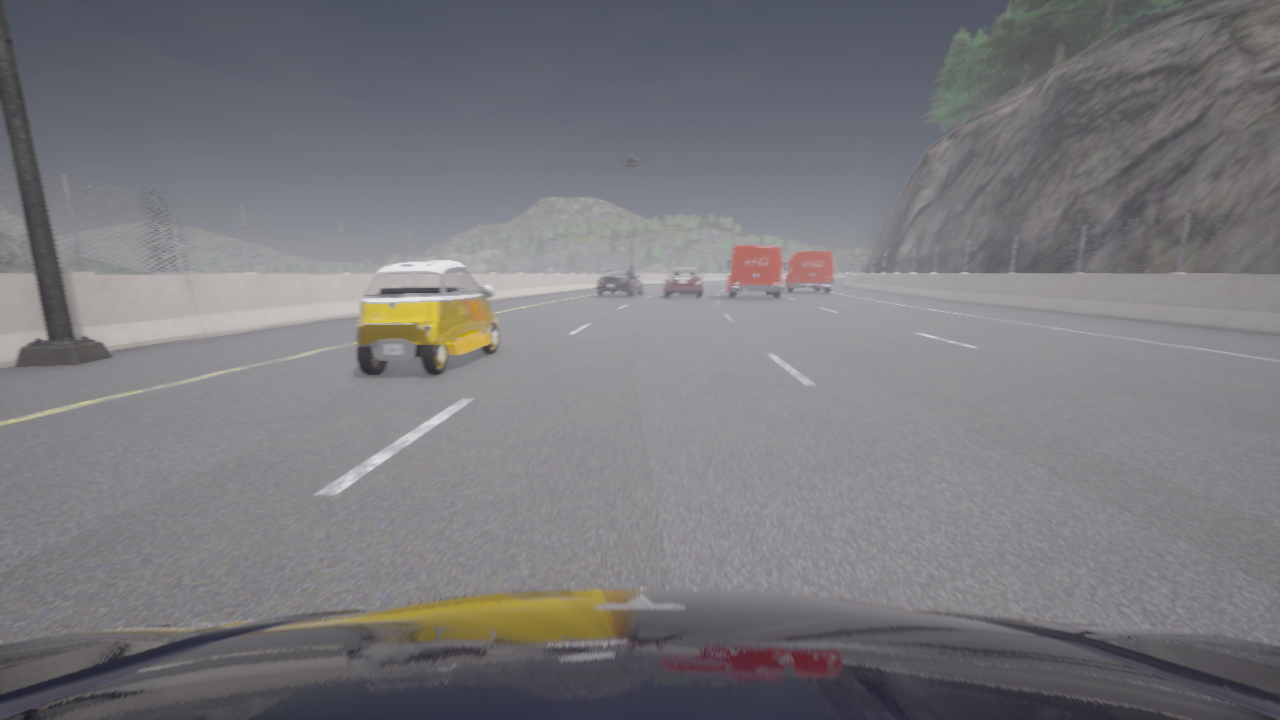cyclist: (0, 588, 1279, 719), (356, 260, 499, 375), (727, 246, 783, 298), (784, 251, 834, 292), (595, 268, 643, 296), (664, 268, 704, 297)
